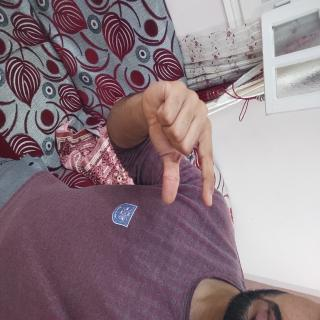DELL: (54, 129, 161, 250)
